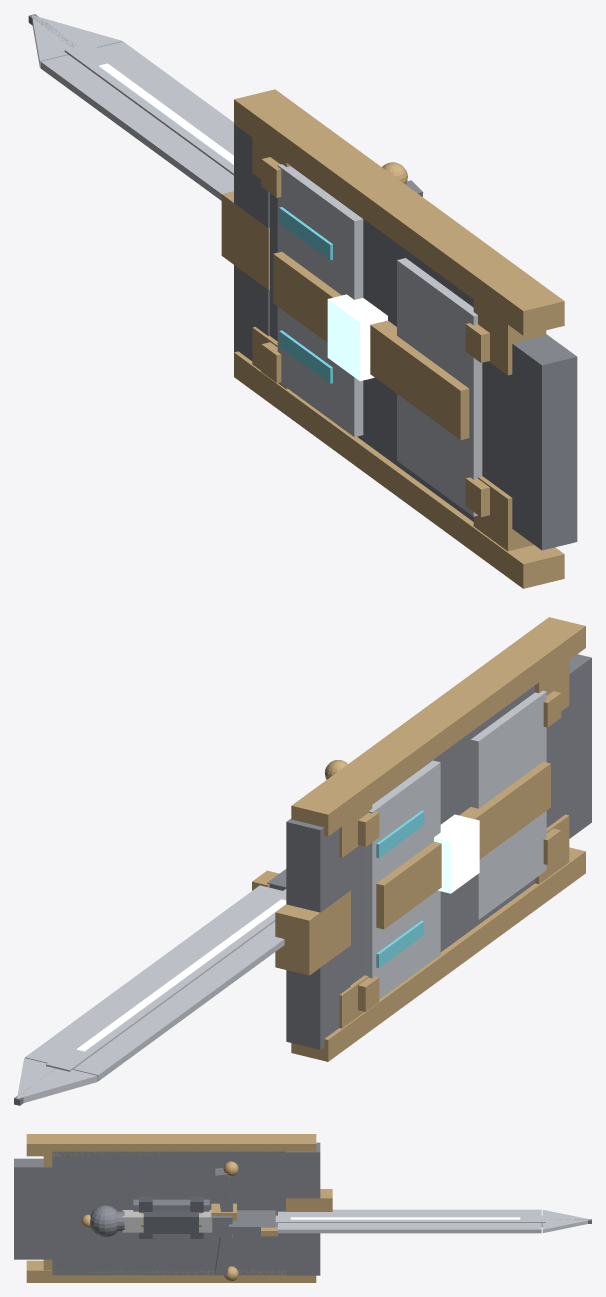
The model's file is art_vanguard_warden_bastion.fbx.
3 renders of one model, top to bottom at view 1: azimuth 30°, elevation 25°; view 2: azimuth 150°, elevation 25°; view 3: azimuth 270°, elevation 25°, orthographic. The views are drawn at different scales.
Visible parts, largest first — view 1: RimL, ScallopBot, PlateLower, PlateUpper, RimR, BastionBody, CenterBossPillar, BladeEdgeBack, CoreBeacon, BladeFuller, BladeEdgeFwd, ScallopCenter (+12 smaller); view 2: RimL, PlateLower, PlateUpper, BastionBody, CenterBossPillar, RimR, BladeEdgeBack, ScallopBot, BladeEdgeFwd, ScallopTop1, ScallopTop2, ScallopCenter (+13 smaller); view 3: BastionBody, RimL, ScallopBot, BladeEdgeFwd, RimR, BladeFuller, ScallopTop1, BladeEdgeBack, ScallopTop2, HandleS, Ricasso, PommelBall (+13 smaller).
Boxes of the visible parts, bbox=[...] form: RimL: bbox=[234, 89, 564, 335]; ScallopBot: bbox=[499, 334, 577, 550]; PlateLower: bbox=[397, 258, 482, 516]; PlateUpper: bbox=[277, 164, 363, 437]; RimR: bbox=[234, 351, 564, 588]; BastionBody: bbox=[269, 166, 503, 521]; CenterBossPillar: bbox=[273, 251, 469, 440]; BladeEdgeBack: bbox=[40, 55, 233, 200]; CoreBeacon: bbox=[327, 294, 387, 381]; BladeFuller: bbox=[64, 43, 233, 175]; BladeEdgeFwd: bbox=[98, 41, 233, 147]; ScallopCenter: bbox=[221, 191, 269, 289]; RimL: bbox=[291, 617, 585, 836]; PlateLower: bbox=[470, 690, 546, 919]; PlateUpper: bbox=[364, 760, 440, 999]; BastionBody: bbox=[350, 685, 557, 984]; CenterBossPillar: bbox=[376, 761, 550, 929]; RimR: bbox=[291, 847, 585, 1061]; BladeEdgeBack: bbox=[73, 922, 284, 1081]; ScallopBot: bbox=[554, 654, 591, 838]; BladeEdgeFwd: bbox=[25, 885, 282, 1063]; ScallopTop1: bbox=[286, 818, 350, 912]; ScallopTop2: bbox=[286, 946, 350, 1049]; ScallopCenter: bbox=[275, 890, 350, 975]; BastionBody: bbox=[52, 1151, 286, 1275]; RimL: bbox=[26, 1134, 316, 1156]; ScallopBot: bbox=[14, 1158, 56, 1259]; BladeEdgeFwd: bbox=[278, 1223, 541, 1233]; RimR: bbox=[26, 1260, 316, 1282]; BladeFuller: bbox=[275, 1215, 545, 1227]; ScallopTop1: bbox=[286, 1142, 320, 1198]; BladeEdgeBack: bbox=[278, 1209, 541, 1215]; ScallopTop2: bbox=[286, 1233, 320, 1275]; HandleS: bbox=[143, 1210, 198, 1233]; Ricasso: bbox=[229, 1210, 275, 1233]; PommelBall: bbox=[90, 1205, 117, 1237].
Bounding box in the file's own units: 0.99 × 1.8 × 6.79.
